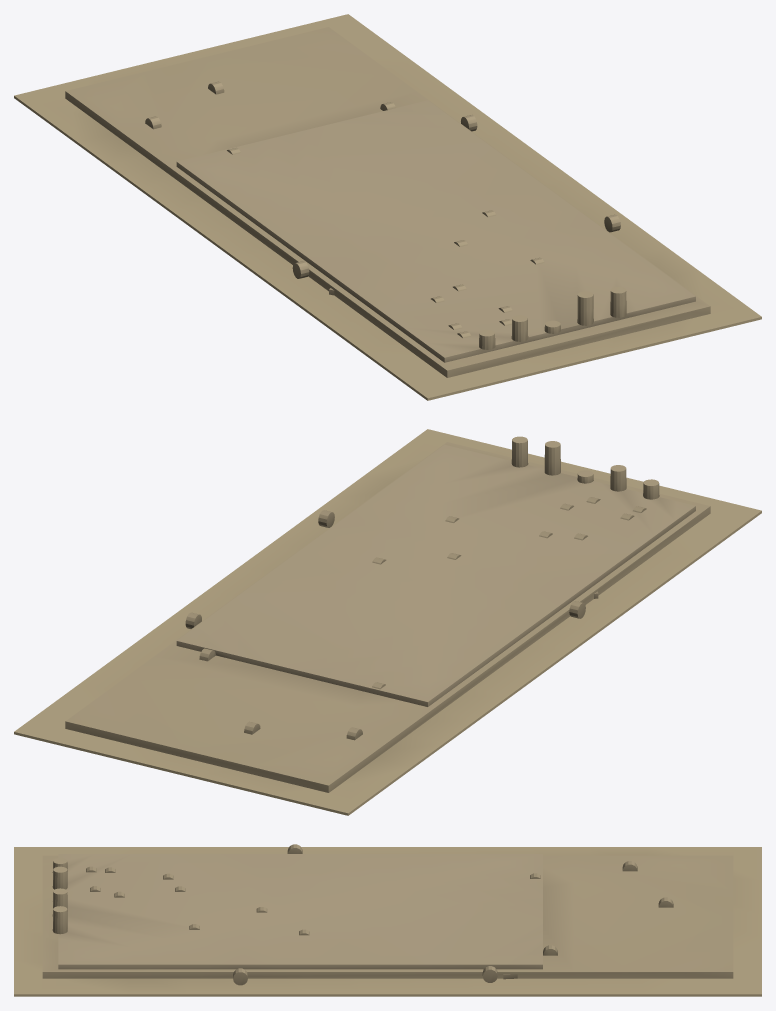
Rendered from olympieion-platform.glb.
3 views of the same model, one above another, from view 1: azimuth 30°, elevation 25°; view 2: azimuth 150°, elevation 25°; view 3: azimuth 270°, elevation 25° (orthographic). The views are drawn at different scales.
Visible parts, largest first — view 1: p0_platform, p1_drums; view 2: p0_platform, p1_drums; view 3: p0_platform, p1_drums.
Boxes of the visible parts, box(x1,y1,x2,y2) form: p0_platform: box(14, 14, 761, 400); p1_drums: box(145, 81, 626, 349); p0_platform: box(14, 429, 761, 815); p1_drums: box(185, 436, 659, 740); p0_platform: box(14, 847, 761, 996); p1_drums: box(52, 844, 673, 985).
Size of the model in its own units: 56 by 6.84 by 120.
